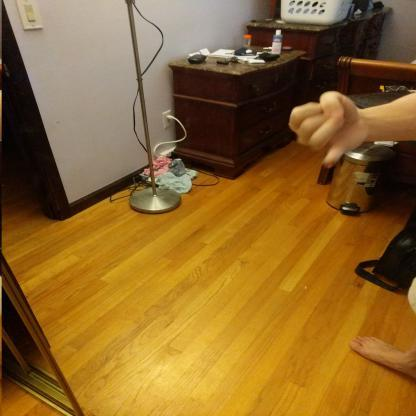J: (284, 88, 370, 174)
